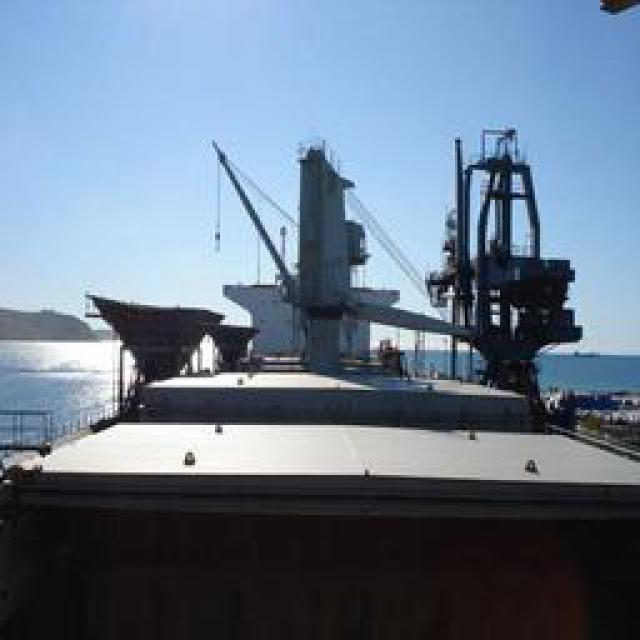Ship: (2, 121, 640, 504)
